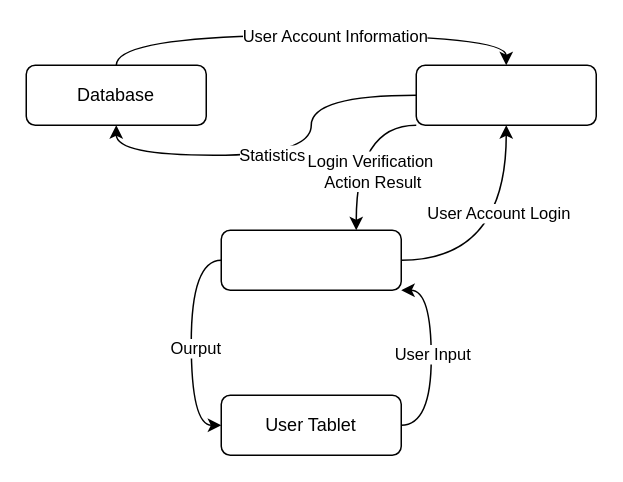
This 623x482 diagram has some shape labels left out. The shapes that lost their labels are listed below. From the top down, each one's centre as x and y in pixels, then its label:
At (x=505, y=94): "Web Server".
At (x=310, y=259): "App Client".
